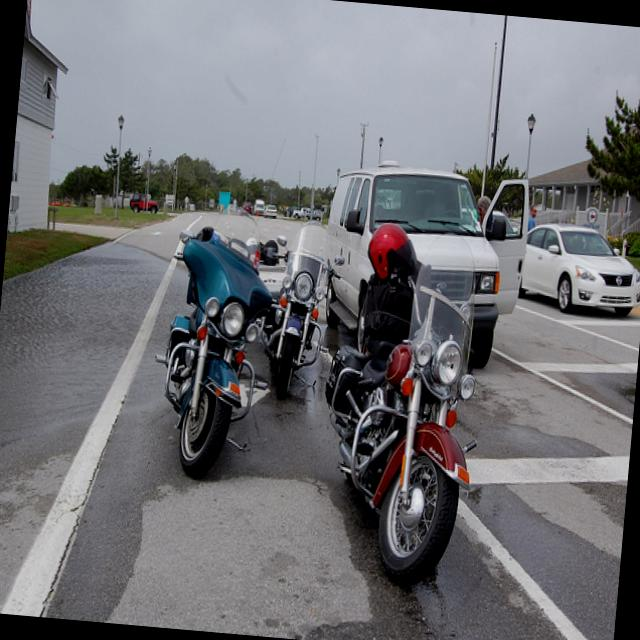Vehicle: (309, 222, 496, 590), (314, 147, 542, 366), (314, 156, 533, 374), (145, 195, 289, 482), (255, 214, 351, 403), (521, 221, 640, 317), (128, 192, 160, 215), (262, 203, 277, 219), (292, 207, 306, 220), (242, 201, 252, 212), (312, 210, 321, 221)
